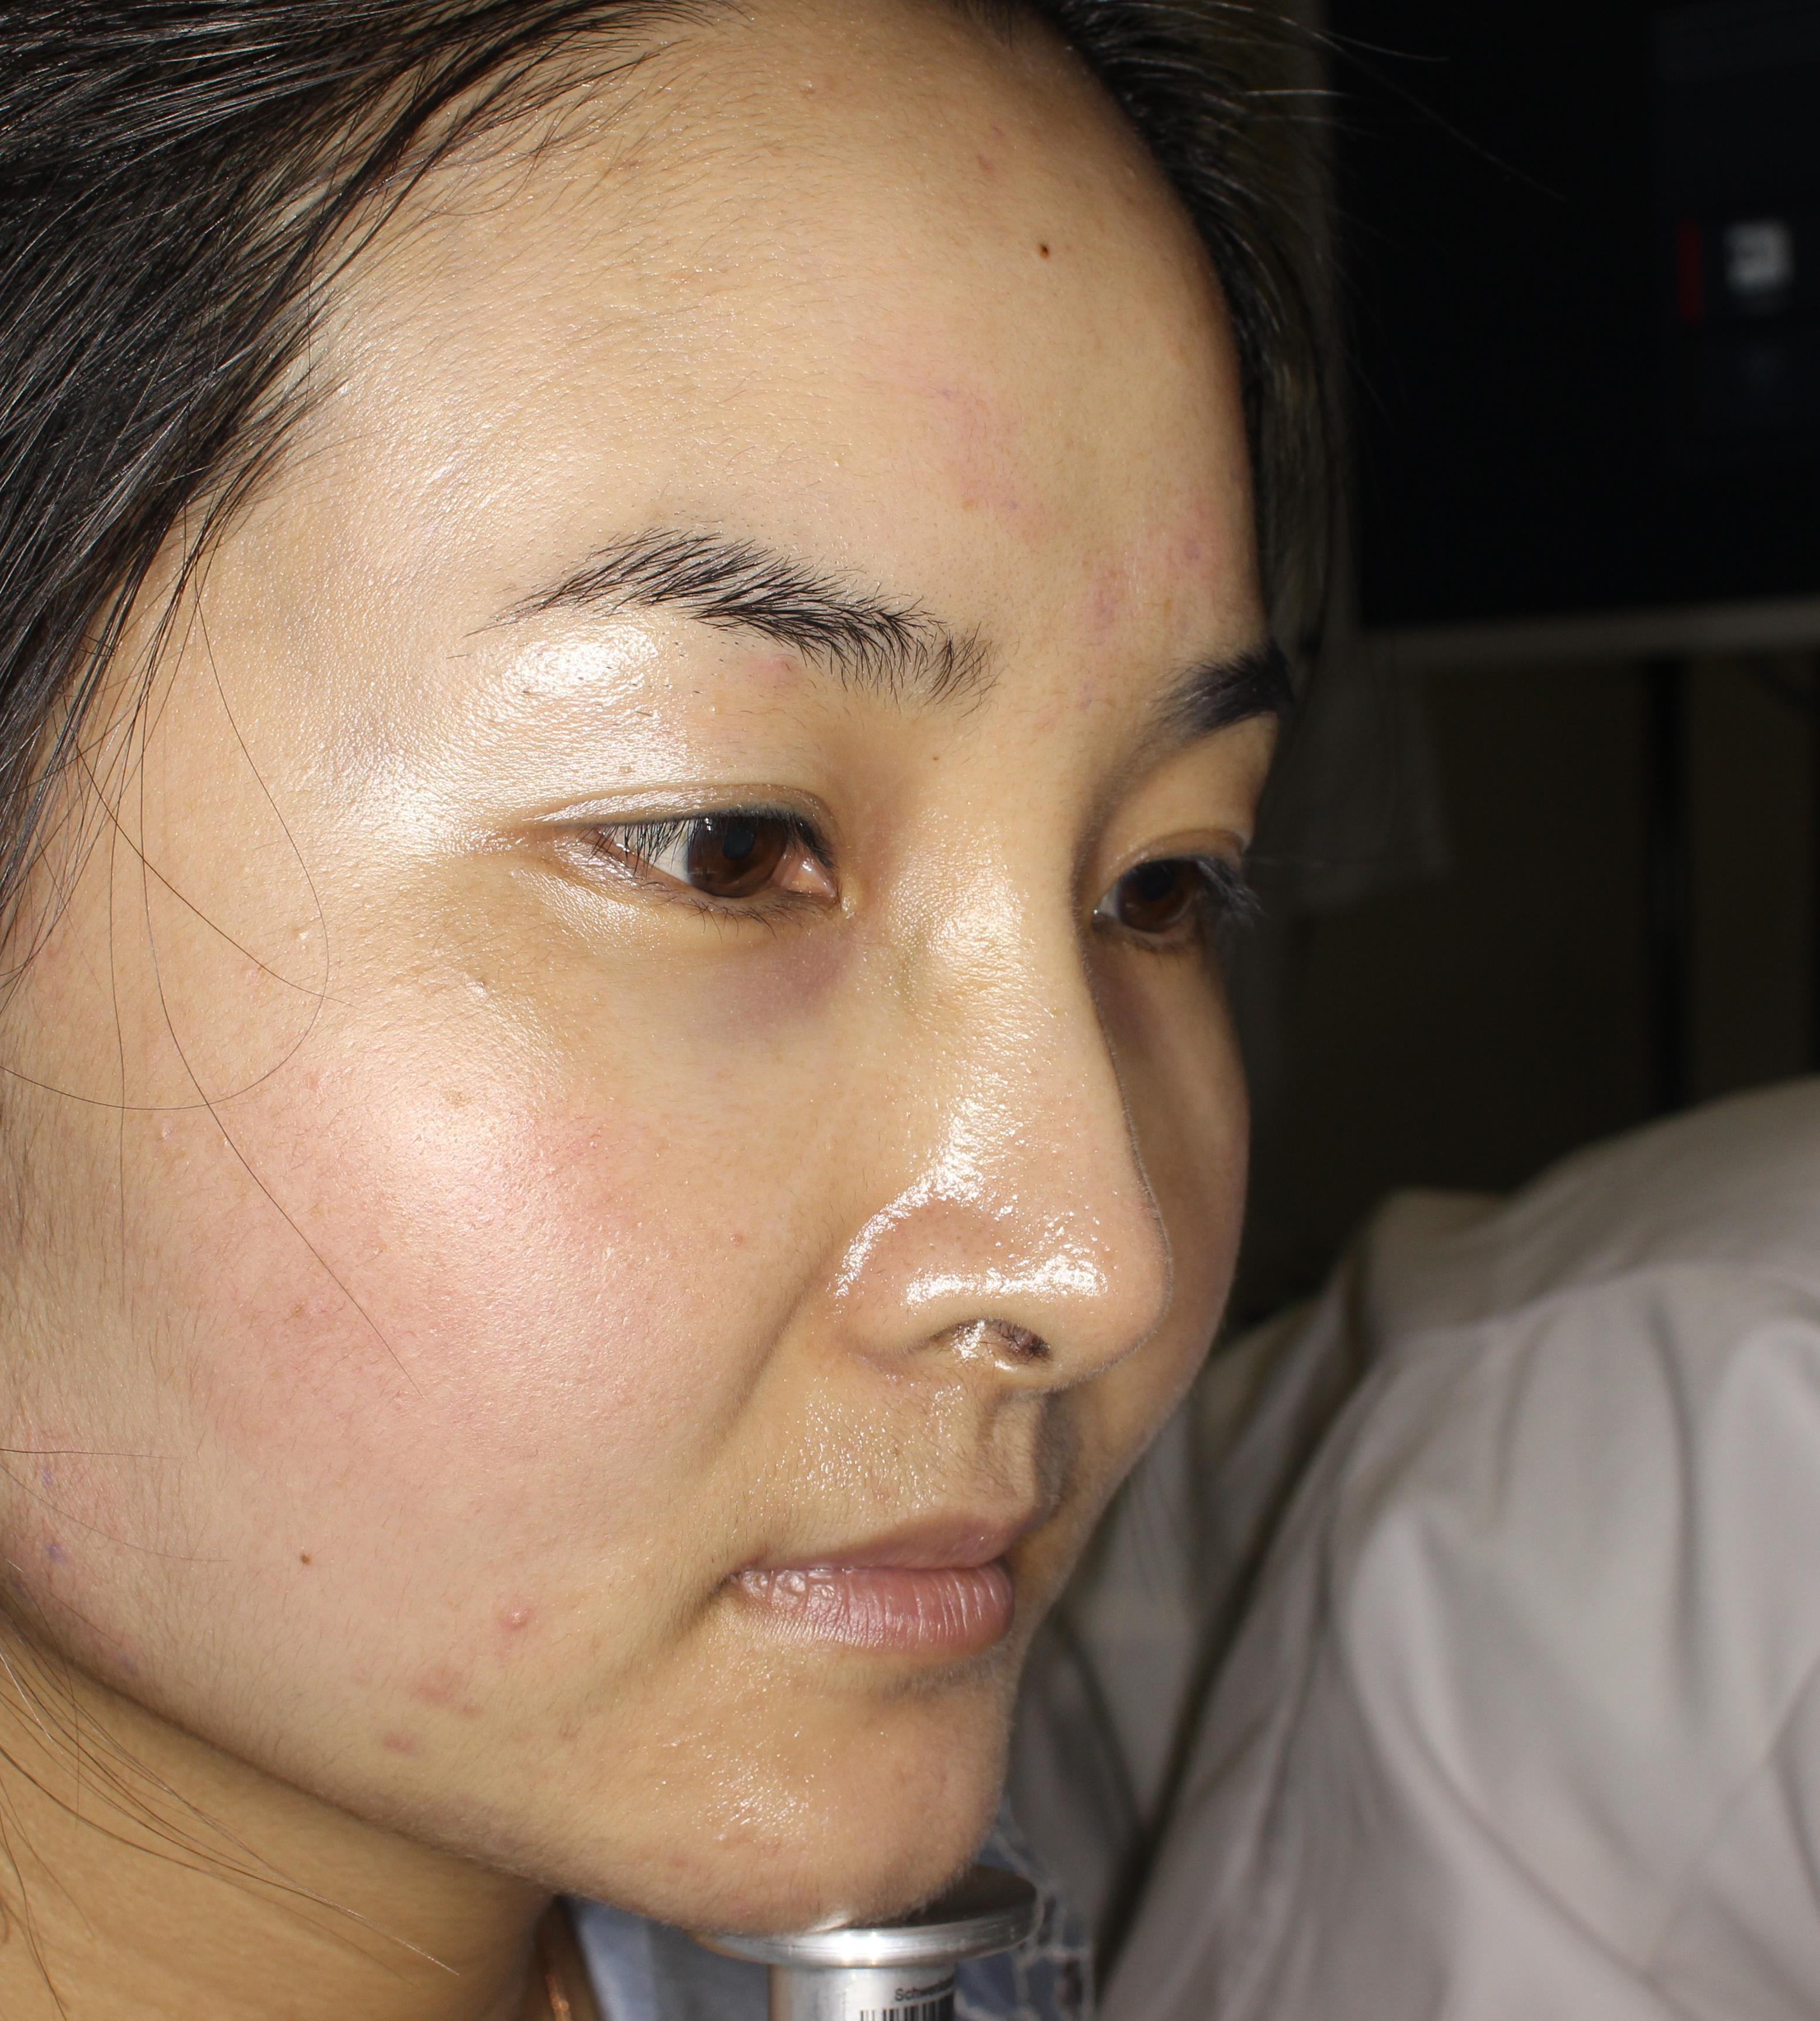fore: (413, 1649, 499, 1737), (471, 1589, 566, 1661), (381, 1701, 430, 1768)
